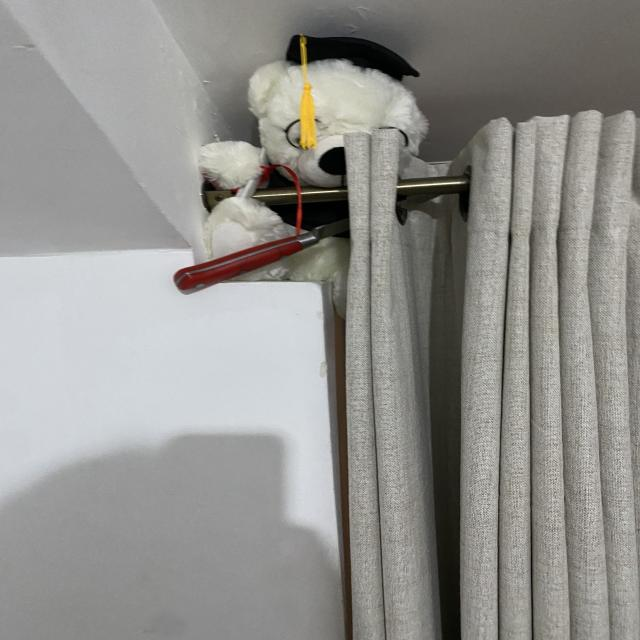Hammer: (91, 150, 483, 312)
